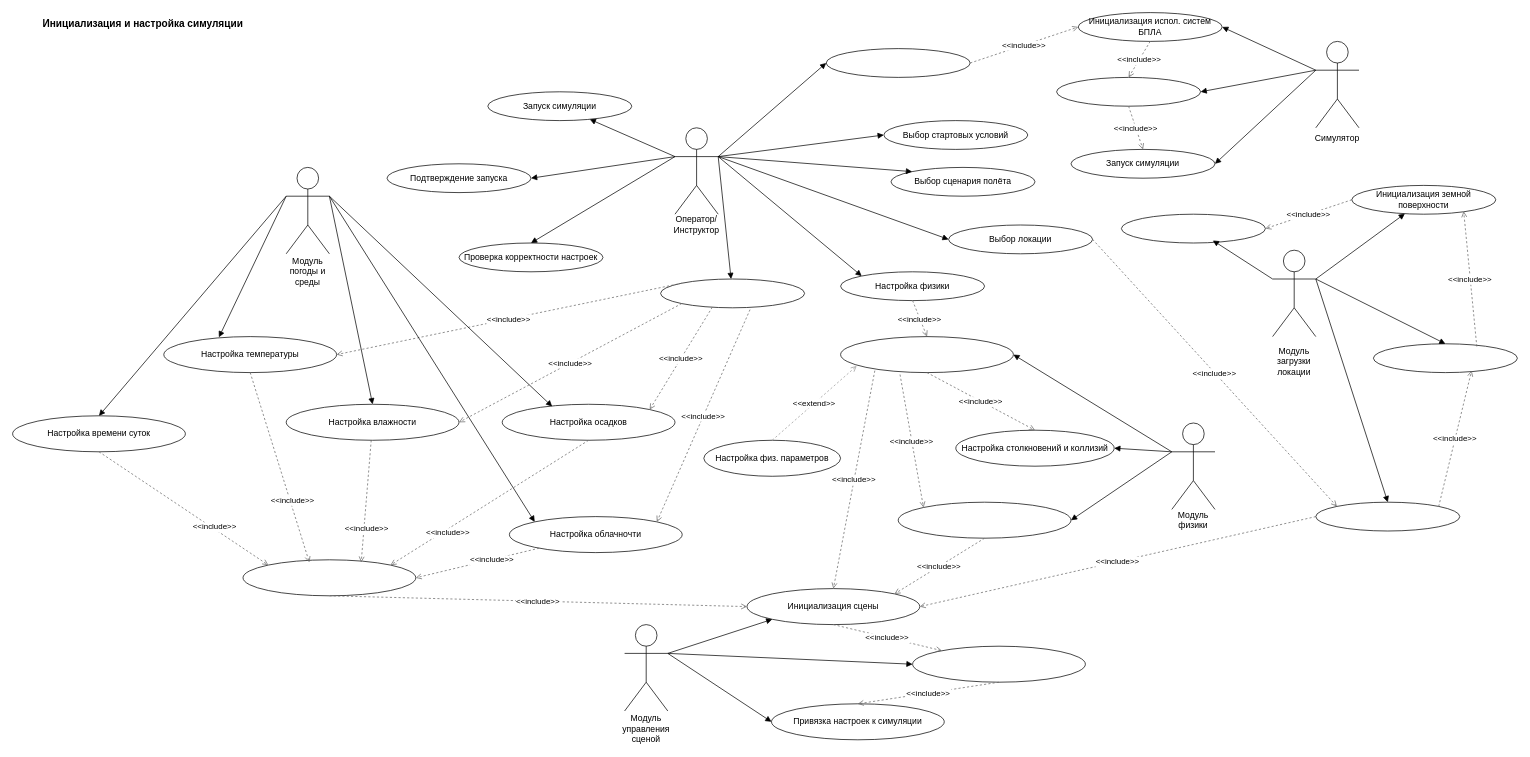
The diagram is 1530 pixels wide and 757 high, and some of its shapes have lost their labels. The shapes that lost their labels are listed below. From the top down, each one's centre as x and y in pixels, then its label:
point (897, 62): Выбор модели БПЛА
point (1128, 91): Проверка датчиков
point (1193, 228): Инициализация объектов окружения
point (732, 293): Настройка погодных условий
point (926, 354): Инициализация физической модели
point (1445, 358): Проверка целостности локации
point (984, 519): Инициализация модели полёта БПЛА
point (1387, 516): Загрузка выбранной локации
point (329, 577): Загрузка климатической модели
point (998, 663): Загрузка всех слоёв
